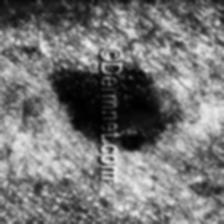Potentially Malignant Skin Tumors: (58, 58, 177, 150)
